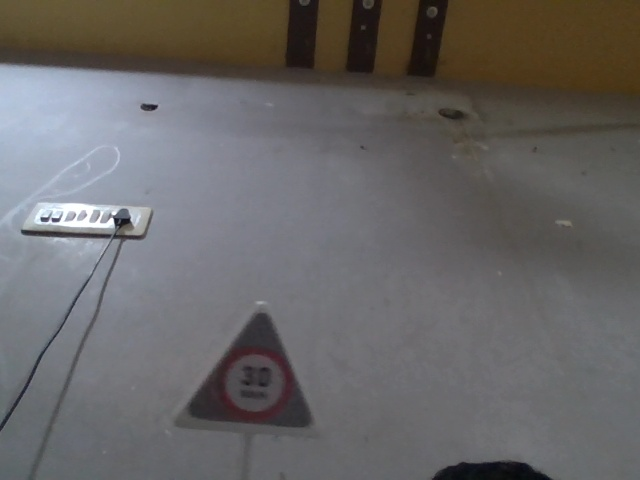speedlimit: (159, 304, 321, 452)
